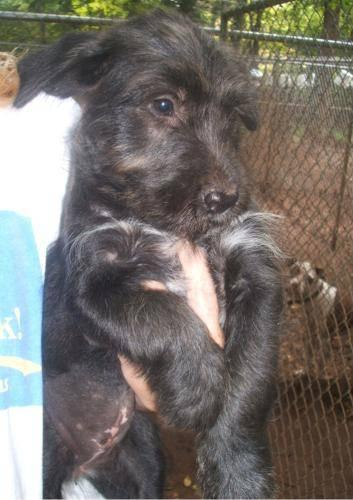dog: (14, 11, 284, 497)
